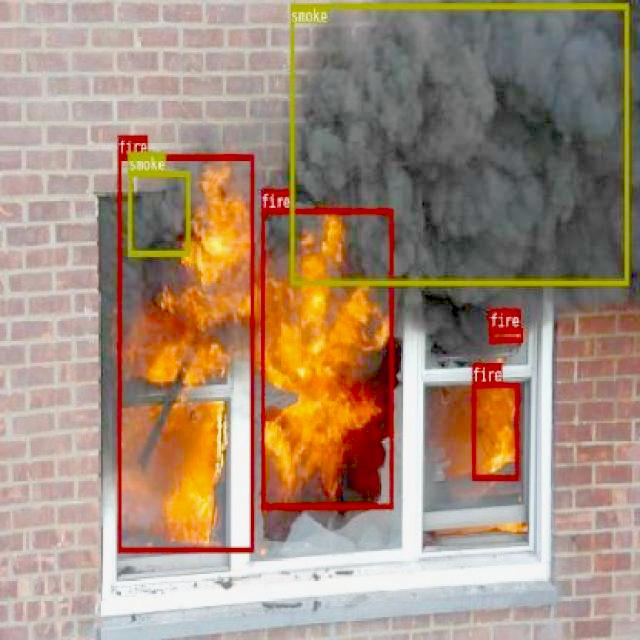fire: (117, 154, 254, 551), (260, 208, 392, 510), (472, 380, 518, 480), (489, 327, 523, 342)
smoke: (289, 2, 628, 284), (128, 171, 190, 255)
